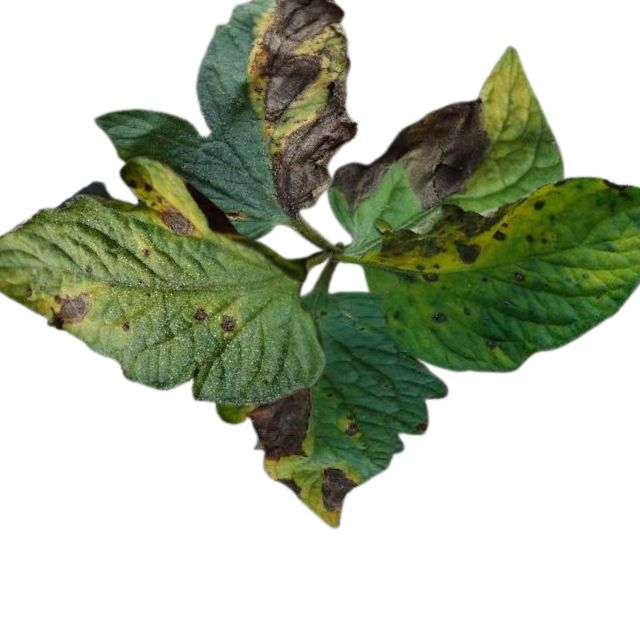Early_blight: (247, 1, 356, 216), (332, 97, 492, 209), (377, 198, 521, 281), (249, 385, 310, 462), (49, 288, 92, 329), (322, 464, 358, 512), (156, 200, 196, 242), (276, 475, 302, 500), (219, 312, 239, 334), (601, 177, 628, 193), (192, 304, 208, 323), (344, 413, 357, 436), (432, 310, 447, 323), (532, 197, 545, 209)
